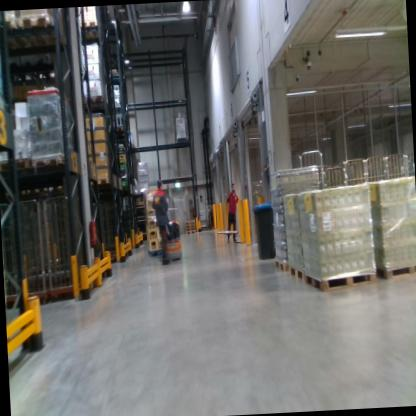pallet: (302, 265, 378, 297), (17, 13, 68, 52), (0, 16, 36, 55), (28, 150, 75, 176), (0, 152, 34, 178), (374, 264, 416, 281), (78, 17, 104, 40), (83, 90, 109, 108), (288, 263, 304, 282), (273, 254, 289, 272), (89, 175, 111, 188), (107, 121, 127, 135), (185, 218, 196, 225), (184, 229, 196, 235), (185, 227, 196, 233), (185, 224, 196, 228)
pallet_truck: (154, 192, 186, 267), (203, 199, 216, 232)
